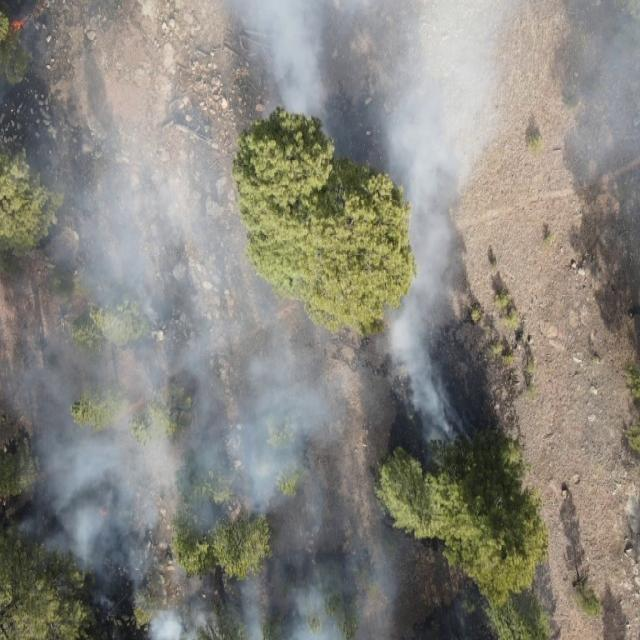fire: (8, 0, 48, 41), (96, 506, 110, 520)
smoke: (0, 0, 473, 454), (23, 455, 434, 640), (473, 0, 640, 180), (575, 180, 640, 321)
